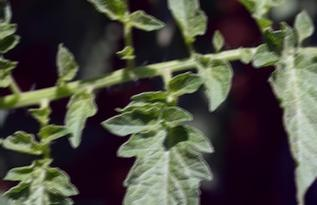Tomato leaf mosaic virus: (123, 116, 218, 205), (264, 51, 317, 205), (192, 52, 235, 116), (61, 86, 98, 153), (164, 0, 210, 52), (169, 74, 204, 101)
